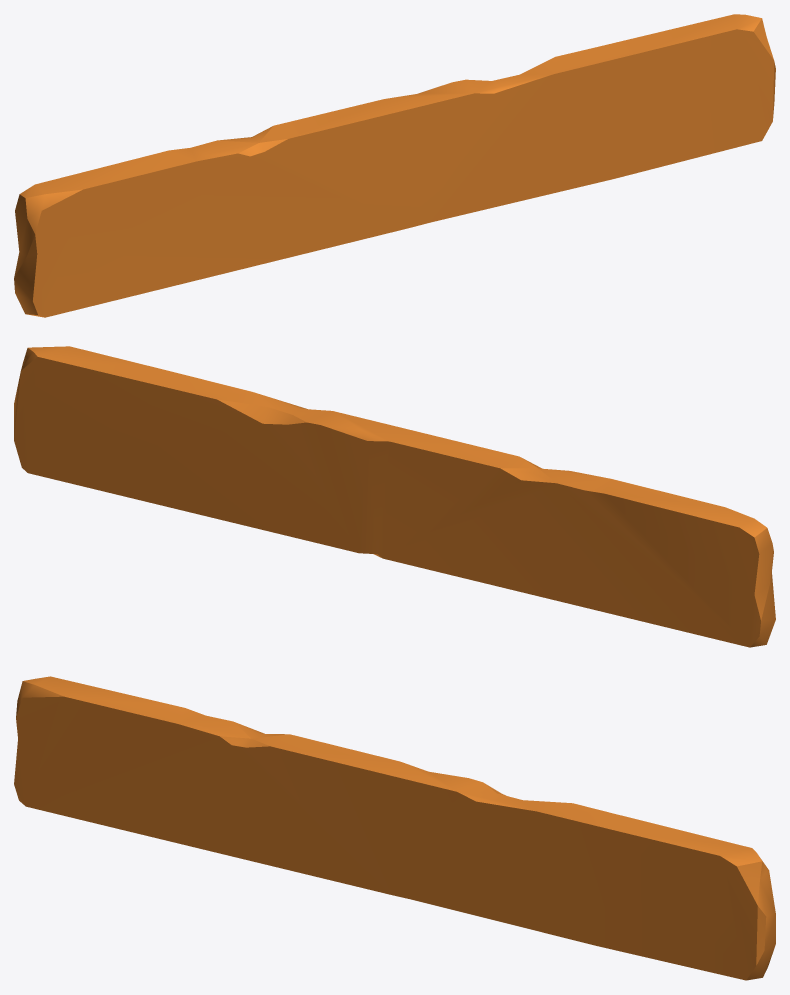
Rendered from SM_board002.fbx.
3 renders of one model, top to bottom at view 1: azimuth 30°, elevation 25°; view 2: azimuth 150°, elevation 25°; view 3: azimuth 330°, elevation 25°, orthographic.
Visible parts, largest first — view 1: wood2_low.001; view 2: wood2_low.001; view 3: wood2_low.001.
Part boxes in pixels (x1,y1,x2,y2): wood2_low.001: (14,14,775,317); wood2_low.001: (14,346,775,647); wood2_low.001: (14,676,775,980).
Size of the model in its own units: 196 by 29.98 by 8.
